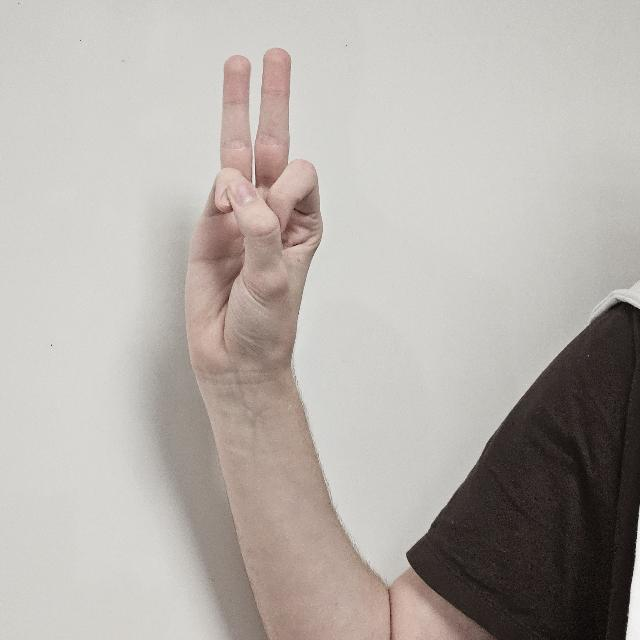R: (185, 41, 322, 401)
